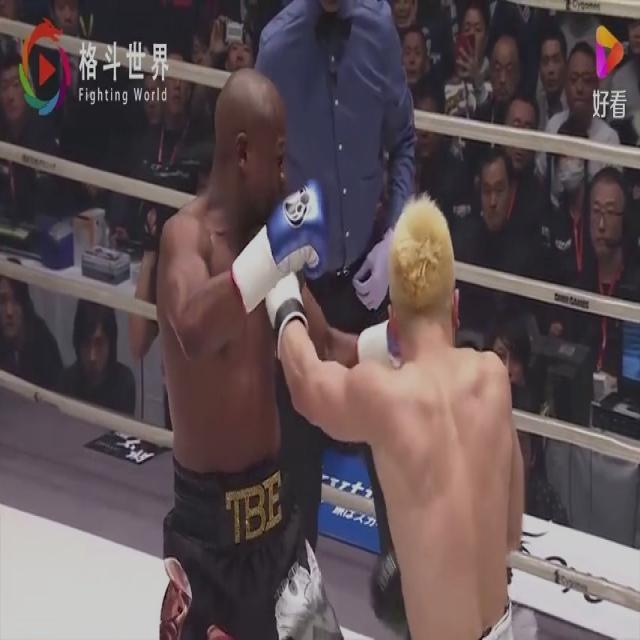fight: (99, 63, 559, 639)
